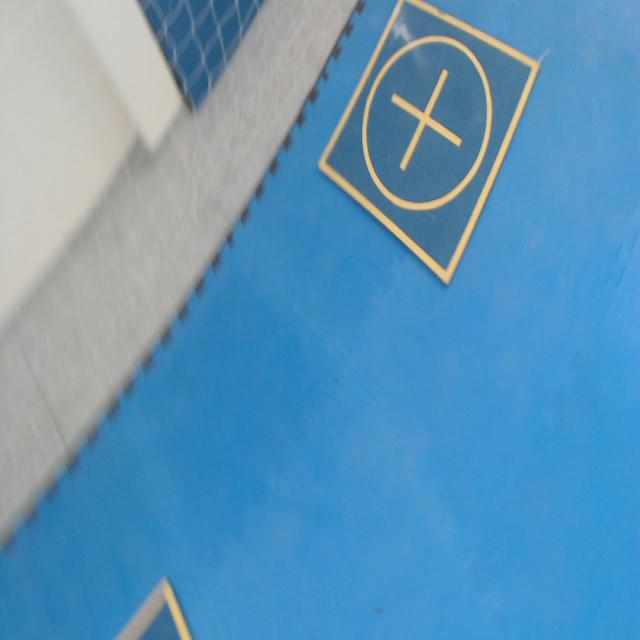base_pouso: (317, 1, 540, 288), (112, 573, 196, 639)
